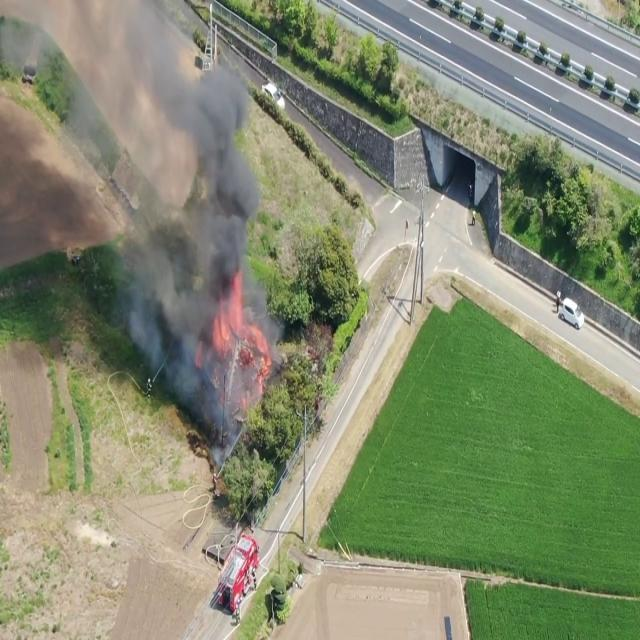Fire: (224, 303, 275, 416)
Smoke: (3, 0, 271, 383)
